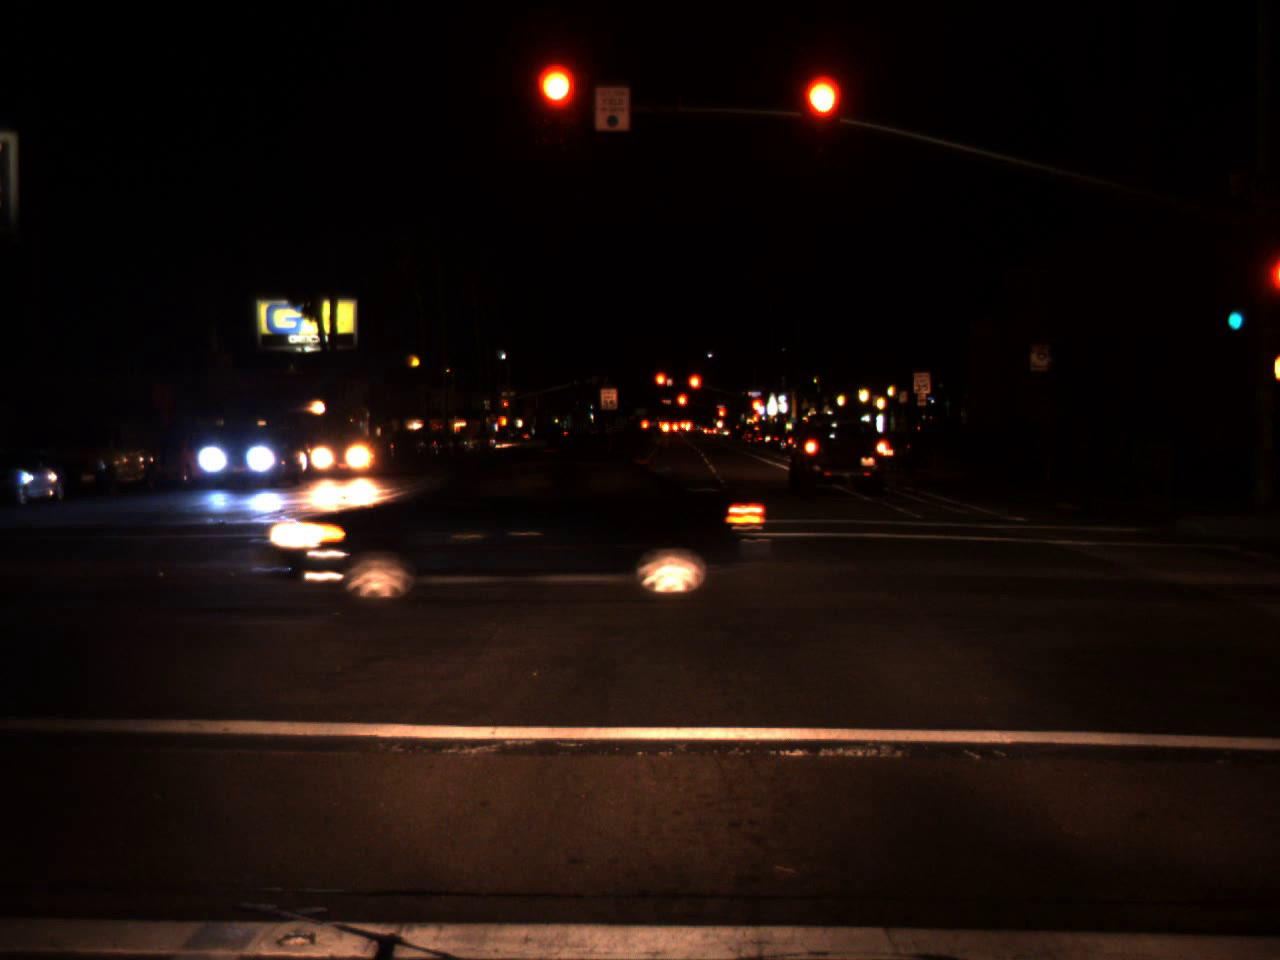stop: (537, 66, 577, 144), (802, 76, 841, 154), (686, 373, 702, 405), (653, 371, 668, 398), (675, 392, 688, 419), (751, 410, 761, 434), (717, 406, 726, 424), (503, 398, 509, 414)
